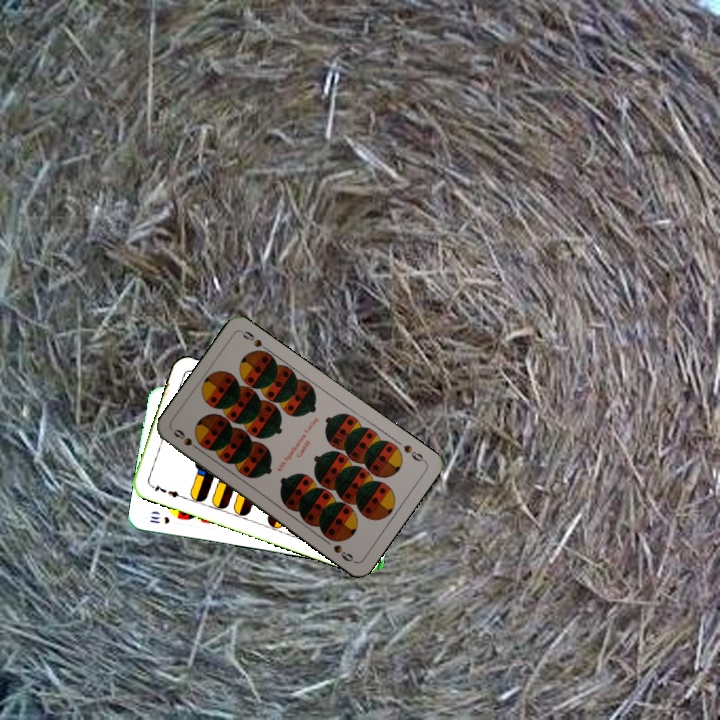E7: (146, 480, 186, 501)
S10: (145, 512, 172, 526)
S9: (169, 425, 204, 454), (399, 441, 428, 465)
